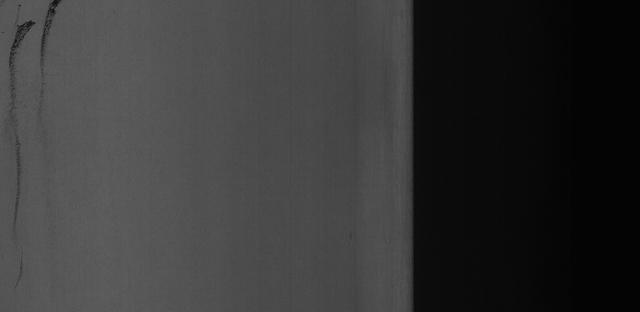inclusion: (1, 17, 32, 173), (33, 0, 60, 94)
